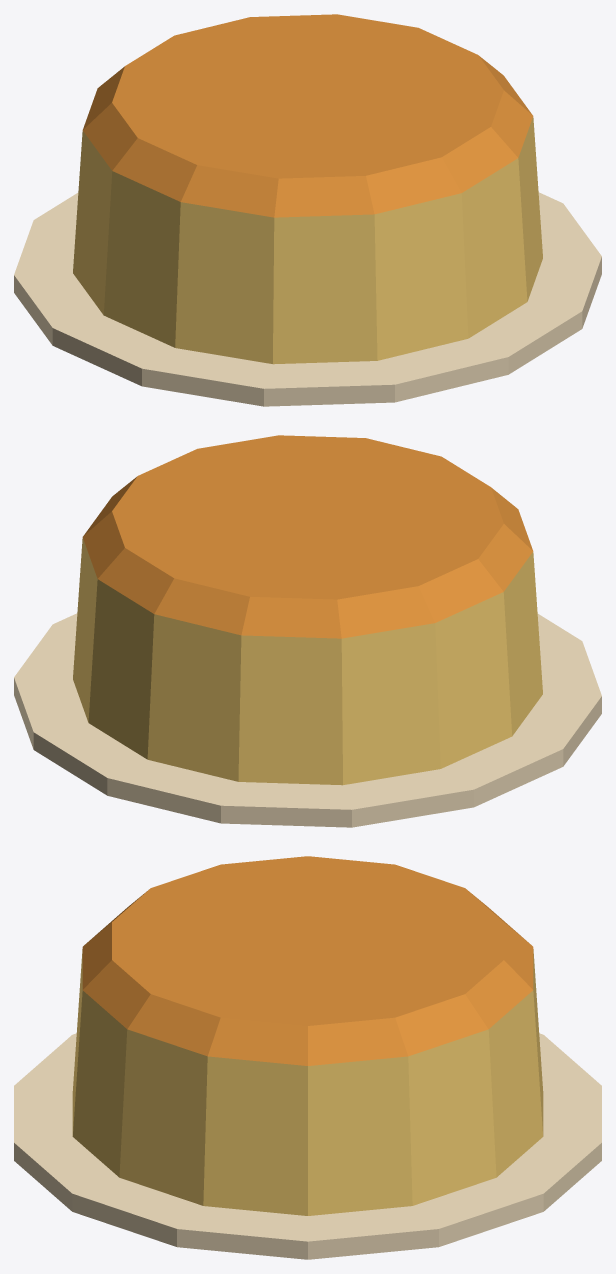
File: corn_cake.obj
3 views of the same model, one above another, from view 1: azimuth 30°, elevation 25°; view 2: azimuth 150°, elevation 25°; view 3: azimuth 270°, elevation 25° (orthographic). The views are drawn at different scales.
Parts seen in each view (by area): view 1: item; view 2: item; view 3: item.
Boxes of the visible parts, x1,y1,x2,y2 form: item: (14,14,601,406); item: (14,435,601,827); item: (14,856,601,1259).
Bounding box in the file's own units: 0.6 × 0.21 × 0.585.
